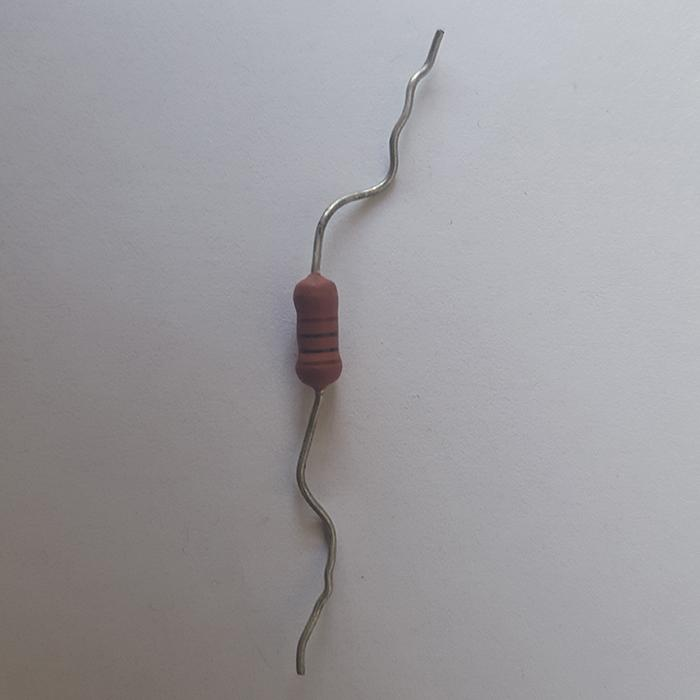resistor: (292, 270, 341, 390)
